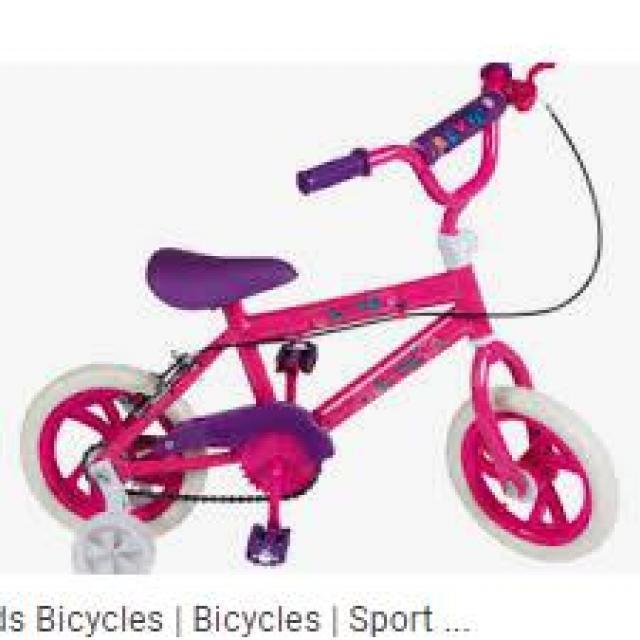bicycle: (27, 92, 630, 564)
